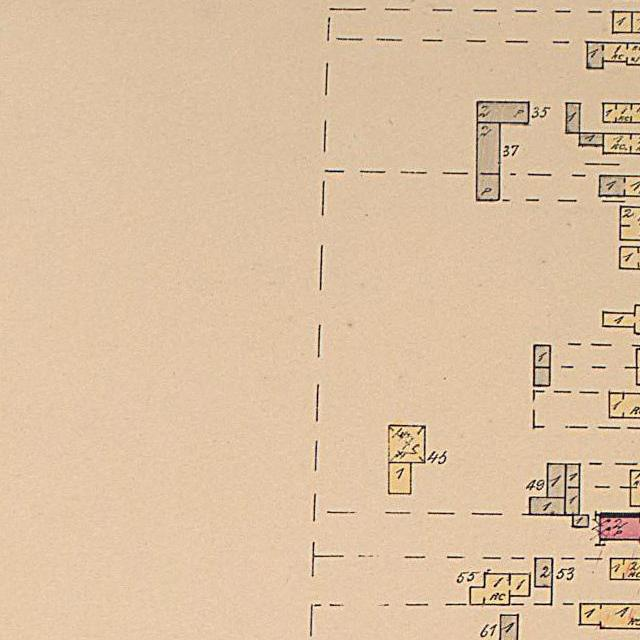building-footprints: (470, 574, 530, 605), (477, 122, 500, 200), (580, 604, 640, 628), (587, 42, 640, 68), (389, 425, 425, 463), (603, 305, 640, 334), (478, 102, 529, 123), (600, 515, 640, 540), (600, 176, 640, 196), (603, 133, 640, 154), (610, 393, 640, 418), (389, 462, 411, 494), (603, 104, 640, 122), (620, 207, 640, 240), (547, 464, 566, 498), (530, 497, 565, 515), (611, 558, 640, 579), (535, 558, 552, 587), (500, 615, 518, 640), (620, 247, 640, 269), (566, 103, 580, 133), (613, 12, 632, 33), (565, 487, 579, 515), (534, 345, 550, 367), (566, 464, 580, 488), (534, 367, 550, 386), (579, 133, 603, 145), (573, 515, 589, 528)
